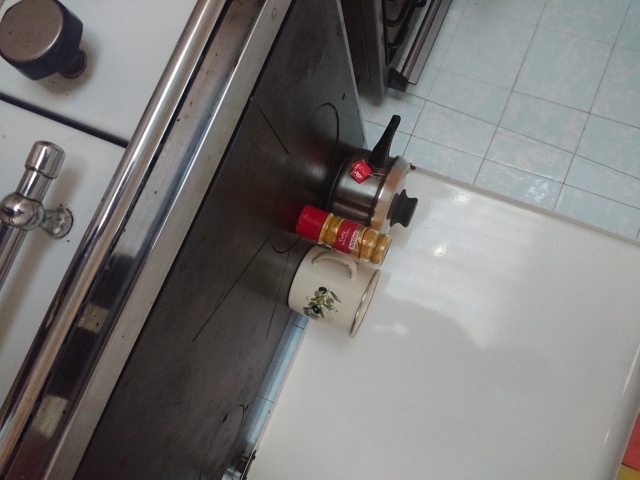Kotanyi Curry Spices Mix 70g: (292, 202, 394, 269)
